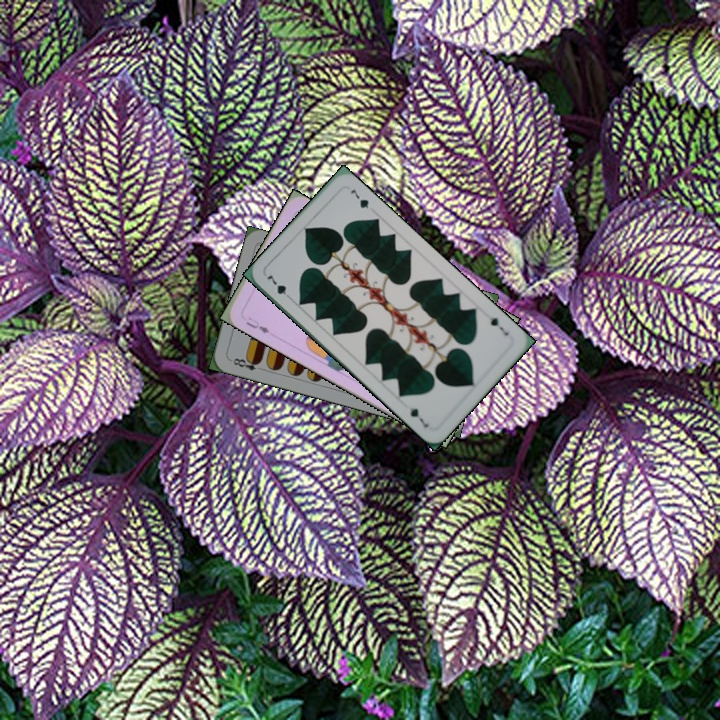E8: (226, 354, 266, 373)
EU: (242, 313, 273, 336)
G7: (263, 271, 295, 303), (486, 313, 512, 338)
